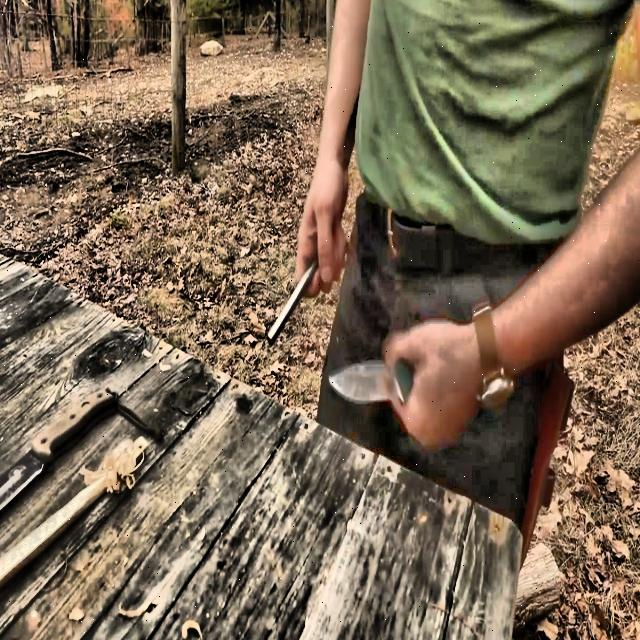knife: (329, 362, 414, 406)
